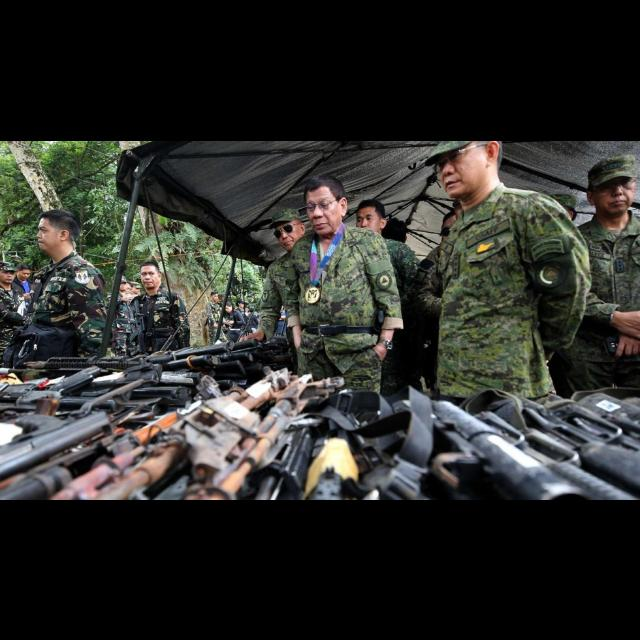head: (434, 140, 504, 198), (586, 158, 636, 216), (303, 173, 349, 235), (441, 210, 487, 264), (36, 209, 80, 253), (273, 212, 307, 252), (357, 198, 388, 236), (140, 262, 162, 288), (0, 263, 16, 283), (16, 263, 32, 281), (115, 276, 127, 292), (224, 300, 234, 314), (211, 290, 219, 302), (237, 300, 245, 308), (249, 307, 255, 313)
person: (237, 205, 349, 490), (325, 195, 419, 493), (416, 207, 496, 493), (128, 258, 190, 450), (1, 260, 32, 420), (6, 260, 40, 388), (102, 274, 140, 374), (204, 290, 232, 356), (221, 299, 247, 365), (232, 297, 248, 353), (245, 306, 261, 354)
